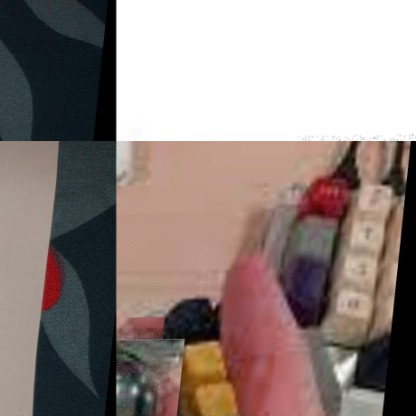ironball: (116, 343, 162, 415)
